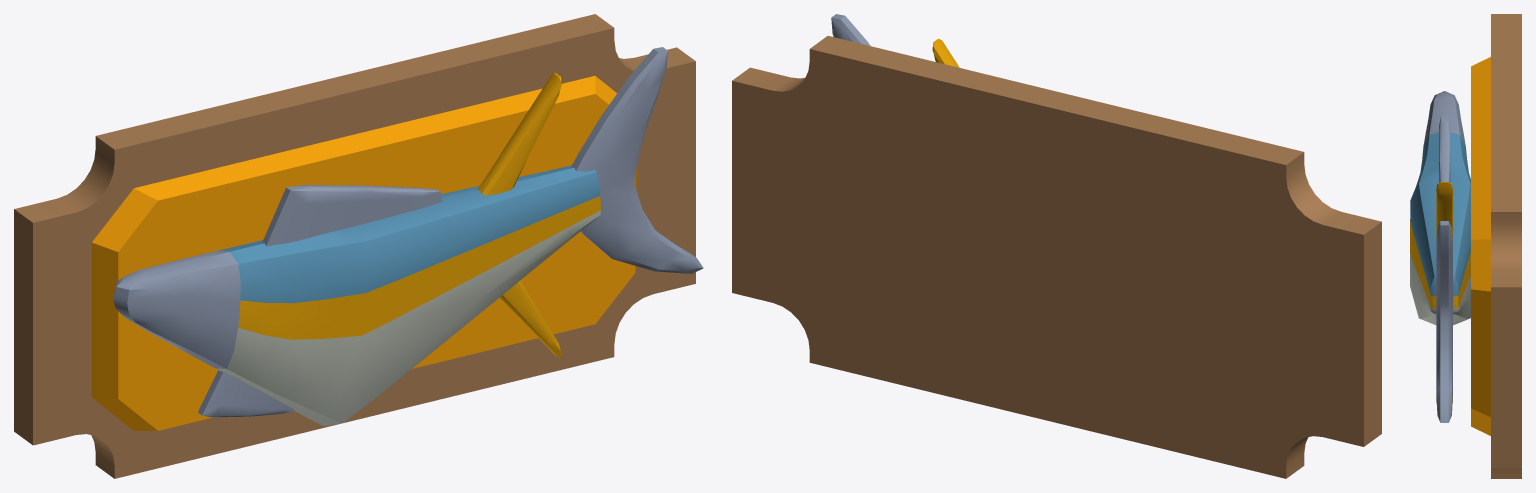
File: fish.glb
3 views of the same model, side by side, from view 1: azimuth 30°, elevation 25°; view 2: azimuth 150°, elevation 25°; view 3: azimuth 270°, elevation 25° (orthographic). The views are drawn at different scales.
Parts seen in each view (by area): view 1: Decoration_Fish; view 2: Decoration_Fish; view 3: Decoration_Fish.
Boxes of the visible parts, bbox=[...] form: Decoration_Fish: bbox=[14, 14, 703, 478]; Decoration_Fish: bbox=[732, 14, 1381, 478]; Decoration_Fish: bbox=[1410, 14, 1521, 478].
Size of the model in its own units: 3.02 by 1.44 by 0.5443.
Materials: 1 (1 with a texture image).
